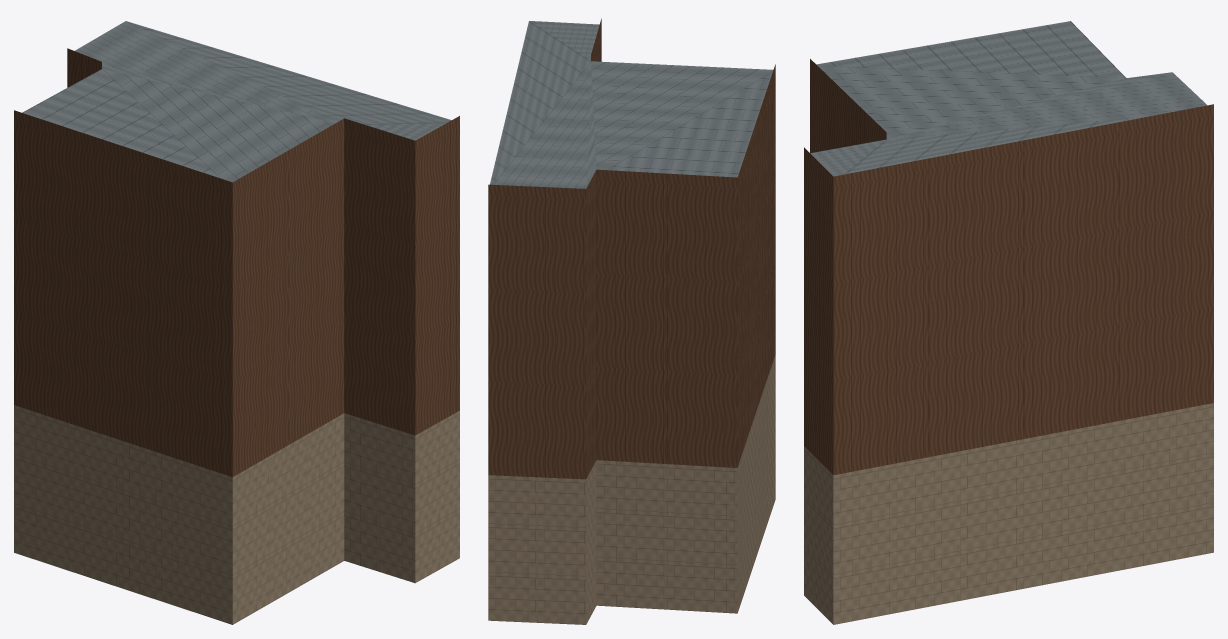
The model's file is core_0090.gltf.
The picture shows the model from 3 angles, left to right: view 1: azimuth 30°, elevation 25°; view 2: azimuth 150°, elevation 25°; view 3: azimuth 270°, elevation 25°; orthographic projection. The views are drawn at different scales.
Visible parts, largest first — view 1: core_0090; view 2: core_0090; view 3: core_0090.
Part boxes in pixels (box(x1,y1,x2,y2)): core_0090: box(14, 21, 459, 624); core_0090: box(488, 18, 775, 624); core_0090: box(804, 21, 1213, 624).
Bounding box in the file's own units: 11.88 × 15.28 × 12.66.
Materials: 3 (3 with a texture image).
